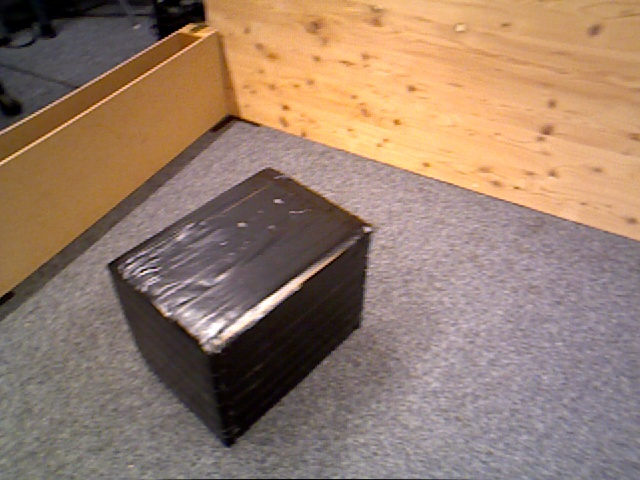push: (106, 210, 372, 443)
